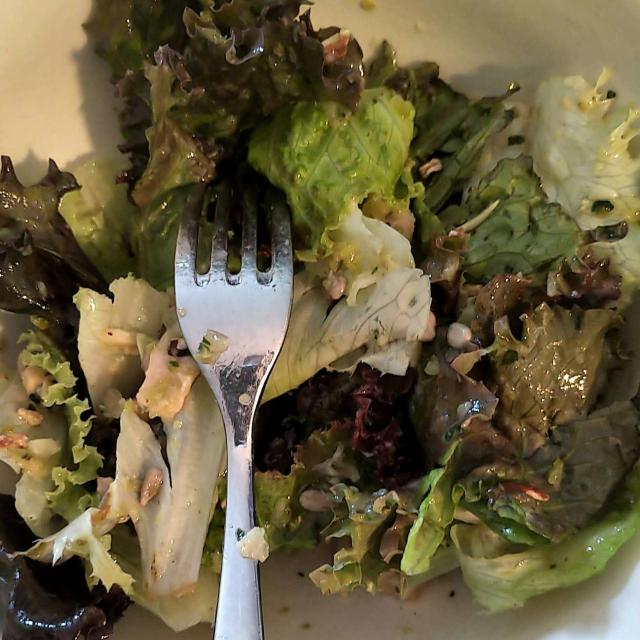salad-leaf-salad-green: (1, 0, 639, 628)
seeds: (7, 314, 481, 500)
